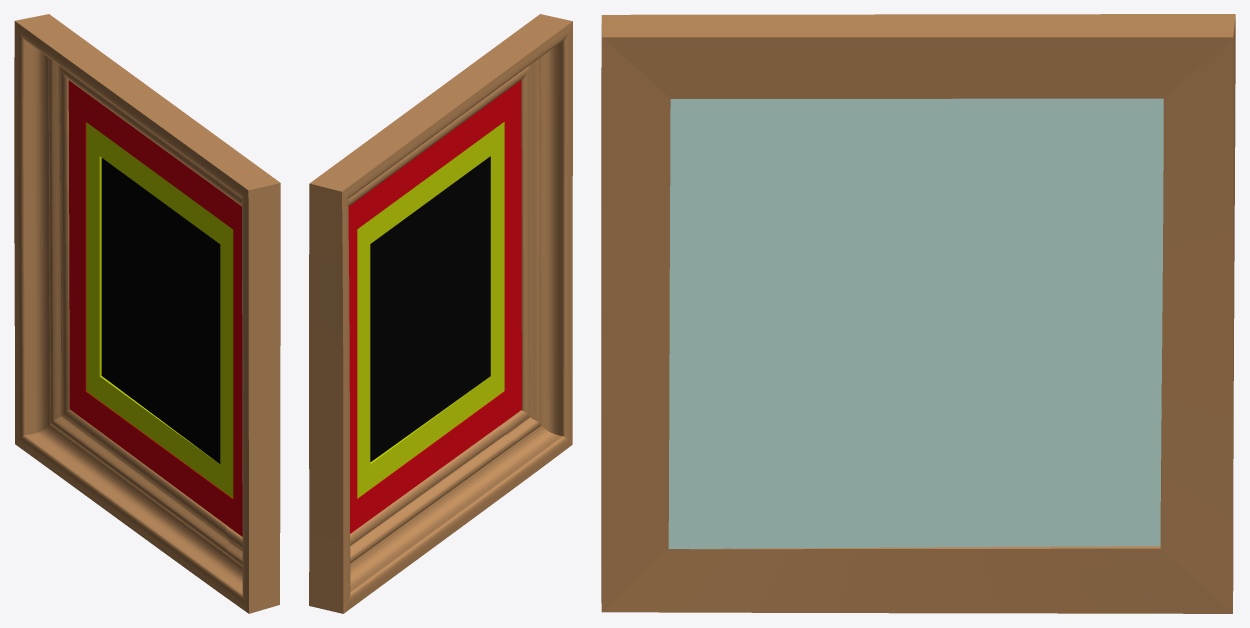
Rendered from glb_files_new.glb.
3 views of the same model, side by side, from view 1: azimuth 30°, elevation 25°; view 2: azimuth 150°, elevation 25°; view 3: azimuth 270°, elevation 25° (orthographic). The views are drawn at different scales.
Visible parts, largest first — view 1: PHOTO, FRAME_LEFT, FRAME_RIGHT, FRAME_BOTTOM, FRAME_TOP, SECOND_MAT_LEFT, SECOND_MAT_BOTTOM, SECOND_MAT_TOP, FIRST_MAT_LEFT, FIRST_MAT_BOTTOM, FIRST_MAT_RIGHT, FIRST_MAT_TOP (+1 smaller); view 2: PHOTO, FRAME_RIGHT, FRAME_LEFT, FRAME_BOTTOM, FRAME_TOP, SECOND_MAT_RIGHT, SECOND_MAT_BOTTOM, SECOND_MAT_TOP, FIRST_MAT_RIGHT, FIRST_MAT_BOTTOM, FIRST_MAT_LEFT, FIRST_MAT_TOP (+1 smaller); view 3: FRAME_BACKSIDE, FRAME_TOP, FRAME_LEFT, FRAME_BOTTOM, FRAME_RIGHT.
Part boxes in pixels (box(x1,y1,x2,y2)): PHOTO: box(101, 158, 220, 463); FRAME_LEFT: box(14, 21, 69, 443); FRAME_RIGHT: box(242, 183, 280, 613); FRAME_BOTTOM: box(15, 409, 248, 613); FRAME_TOP: box(15, 14, 280, 206); SECOND_MAT_LEFT: box(68, 80, 86, 408); SECOND_MAT_BOTTOM: box(70, 391, 242, 536); SECOND_MAT_TOP: box(70, 81, 241, 229); FIRST_MAT_LEFT: box(86, 122, 101, 390); FIRST_MAT_BOTTOM: box(86, 376, 233, 498); FIRST_MAT_RIGHT: box(220, 231, 233, 496); FIRST_MAT_TOP: box(86, 122, 233, 244); PHOTO: box(370, 156, 490, 462); FRAME_RIGHT: box(521, 21, 572, 444); FRAME_LEFT: box(309, 183, 350, 613); FRAME_BOTTOM: box(344, 410, 572, 613); FRAME_TOP: box(309, 14, 572, 206); SECOND_MAT_RIGHT: box(504, 80, 521, 409); SECOND_MAT_BOTTOM: box(350, 391, 521, 533); SECOND_MAT_TOP: box(348, 80, 520, 229); FIRST_MAT_RIGHT: box(490, 122, 504, 390); FIRST_MAT_BOTTOM: box(357, 376, 503, 498); FIRST_MAT_LEFT: box(357, 230, 370, 496); FIRST_MAT_TOP: box(357, 122, 503, 243); FRAME_BACKSIDE: box(668, 98, 1163, 548); FRAME_TOP: box(601, 14, 1235, 98); FRAME_LEFT: box(1160, 17, 1235, 613); FRAME_BOTTOM: box(602, 546, 1232, 613); FRAME_RIGHT: box(601, 25, 670, 611).
Size of the model in its own units: 0.5269 by 6.05 by 6.02.
6 materials, 1 textured.
